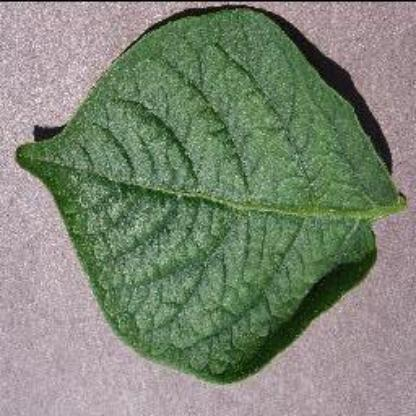Healthy-plant: (13, 8, 405, 384)
